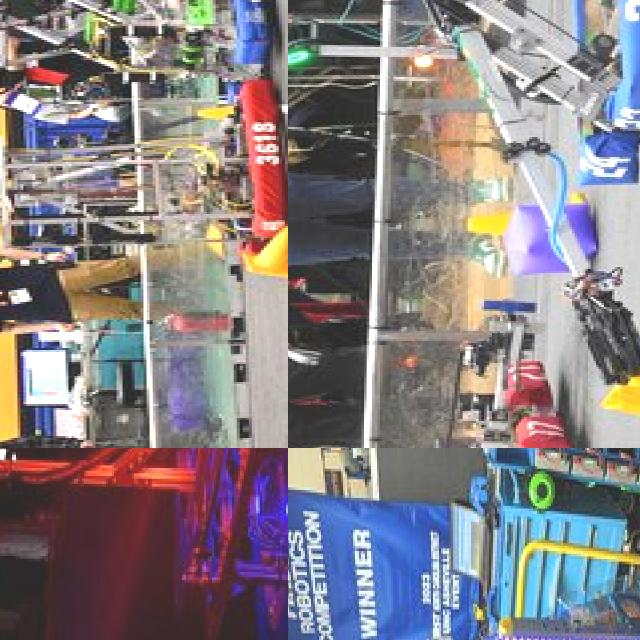FRC-Robots: (371, 0, 640, 447), (0, 448, 288, 640), (0, 88, 288, 260), (377, 471, 640, 640), (0, 0, 288, 82), (440, 331, 612, 448)
